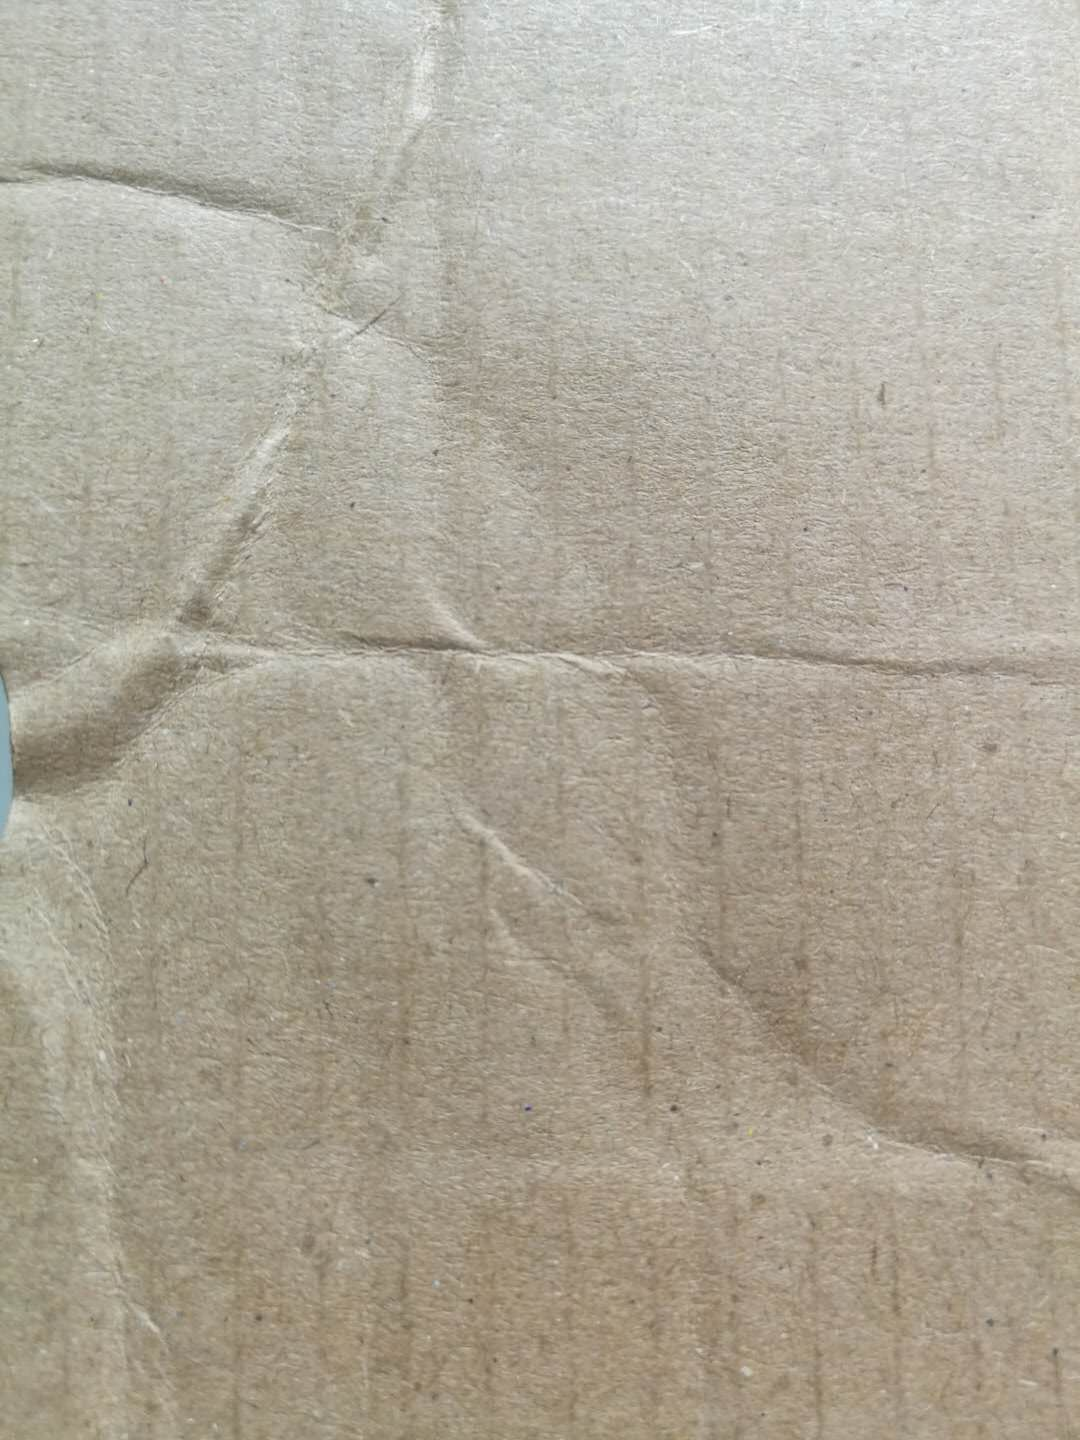defect: (2, 5, 554, 1435), (497, 822, 1080, 1220), (427, 578, 1080, 760)
